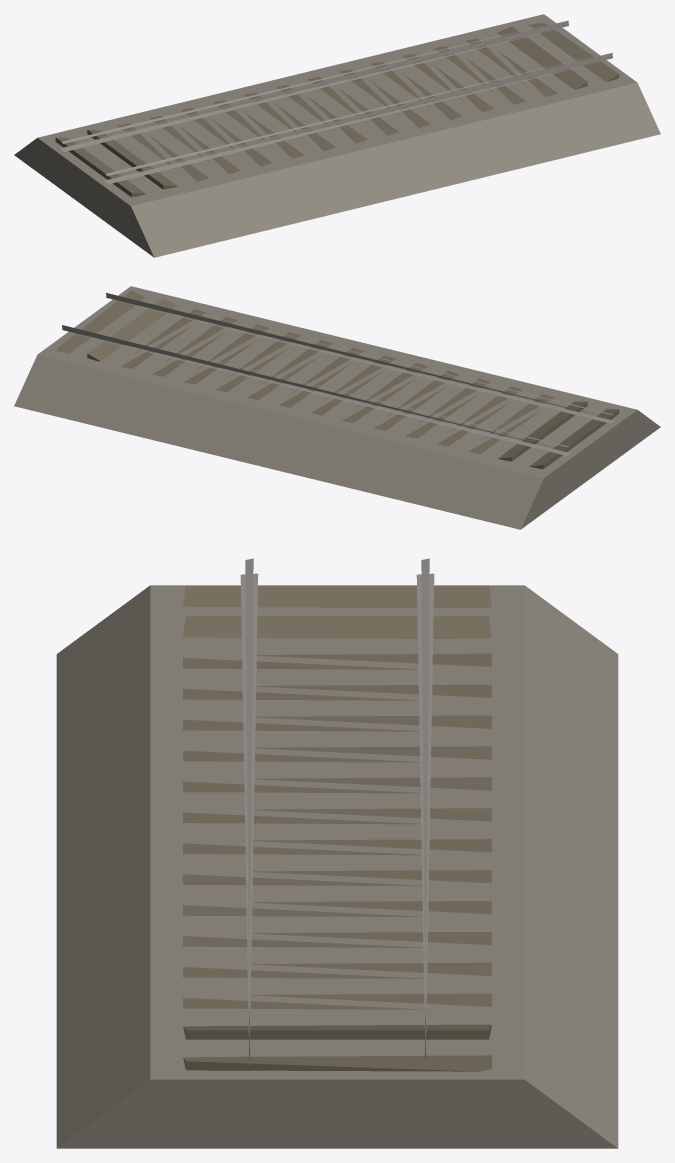
Rendered from rail-track-lod1.glb.
The picture shows the model from 3 angles, top to bottom: view 1: azimuth 30°, elevation 25°; view 2: azimuth 150°, elevation 25°; view 3: azimuth 270°, elevation 25°; orthographic projection. The views are drawn at different scales.
Parts seen in each view (by area): view 1: rail-track.001; view 2: rail-track.001; view 3: rail-track.001.
Part boxes in pixels (<box>): rail-track.001: <box>14,14,660,257</box>; rail-track.001: <box>14,286,660,529</box>; rail-track.001: <box>56,558,618,1148</box>.
Bounding box in the file's own units: 10 × 0.9033 × 4.8.
